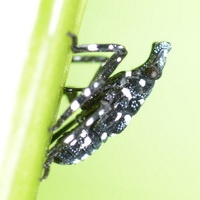insect: (42, 34, 170, 178)
